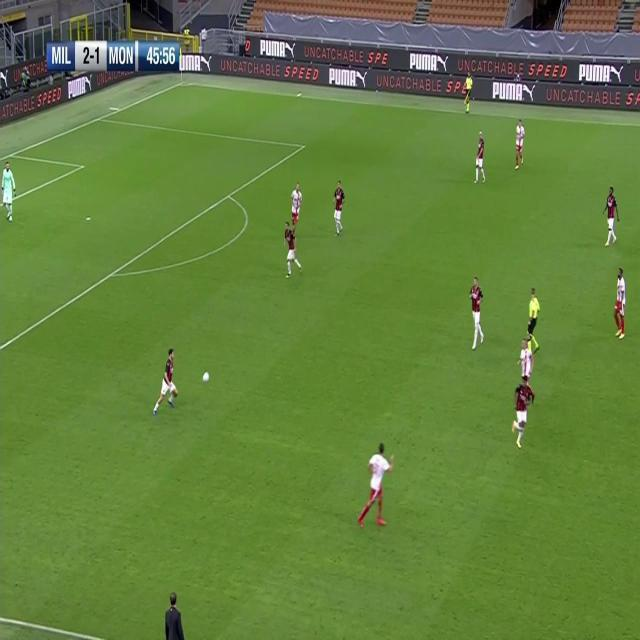ball: (201, 369, 211, 384)
player: (357, 440, 394, 531), (152, 346, 180, 417), (510, 375, 533, 452), (469, 275, 486, 351), (283, 220, 303, 282), (612, 266, 628, 342), (602, 185, 620, 247), (526, 284, 542, 350), (1, 159, 17, 223), (164, 591, 184, 639), (332, 178, 346, 238), (473, 128, 487, 187), (513, 116, 526, 172), (290, 180, 302, 232), (517, 337, 533, 375), (462, 70, 474, 115)
